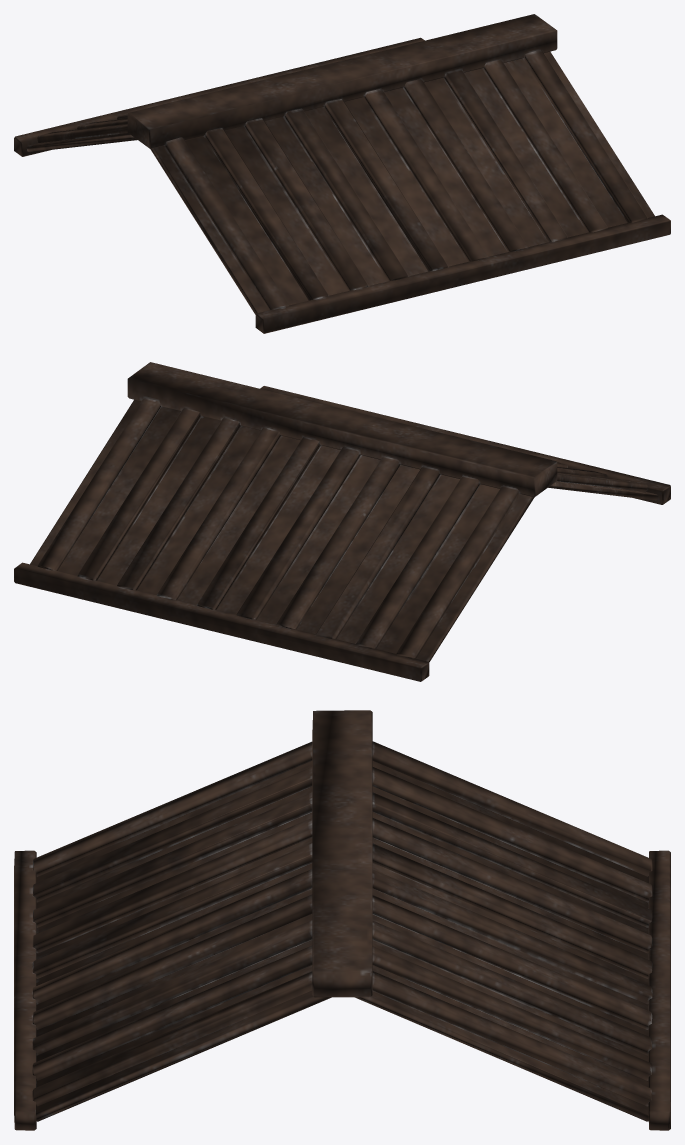
File: Galpon_Techo.fbx
3 renders of one model, top to bottom at view 1: azimuth 30°, elevation 25°; view 2: azimuth 150°, elevation 25°; view 3: azimuth 270°, elevation 25°, orthographic. The views are drawn at different scales.
Parts seen in each view (by area): view 1: Galpon_Techo; view 2: Galpon_Techo; view 3: Galpon_Techo.
Boxes of the visible parts, x1,y1,x2,y2 form: Galpon_Techo: (14, 14, 670, 333); Galpon_Techo: (14, 362, 670, 681); Galpon_Techo: (14, 710, 670, 1130).
Bounding box in the file's own units: 8.2 × 2.35 × 8.7.
